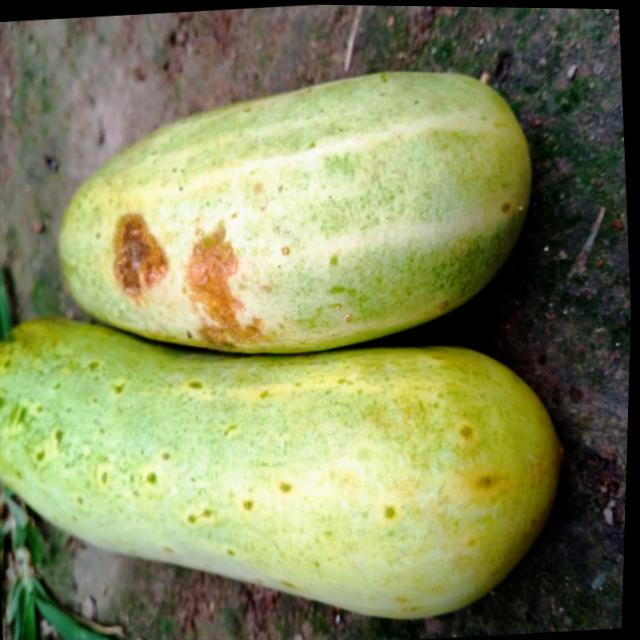Belly-Rot: (104, 196, 271, 361)
